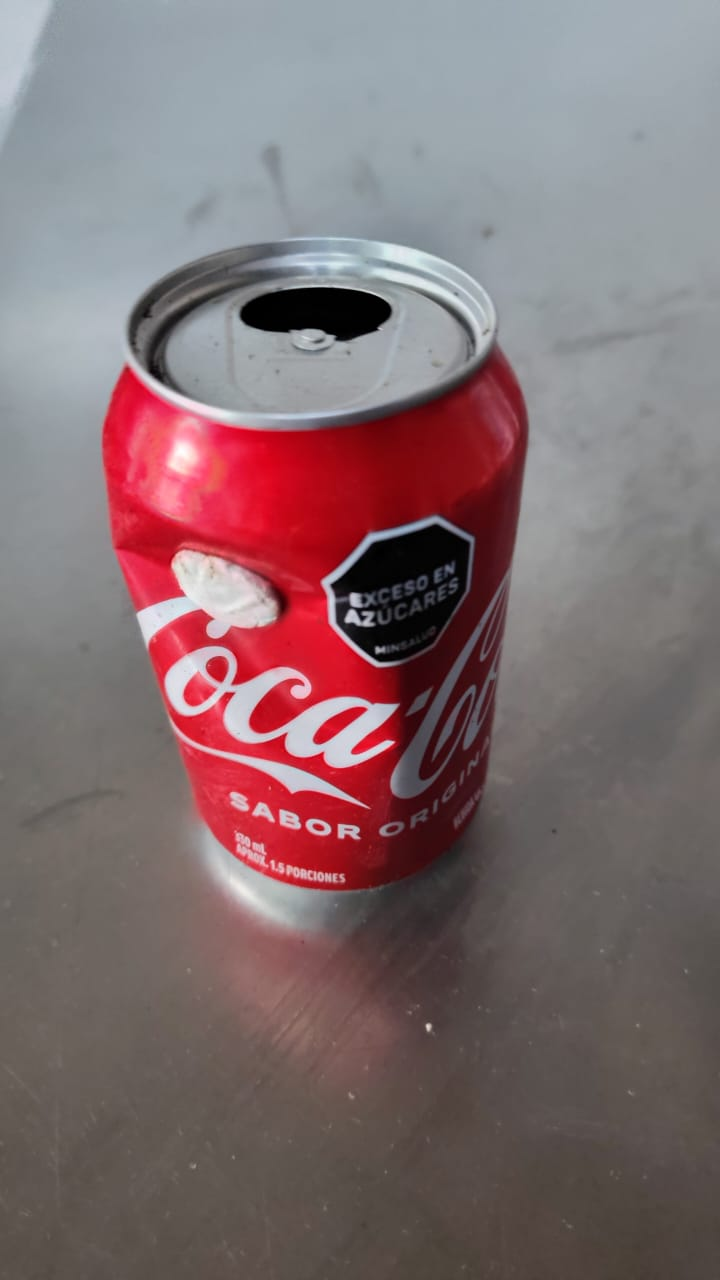Metal: (100, 236, 532, 896)
